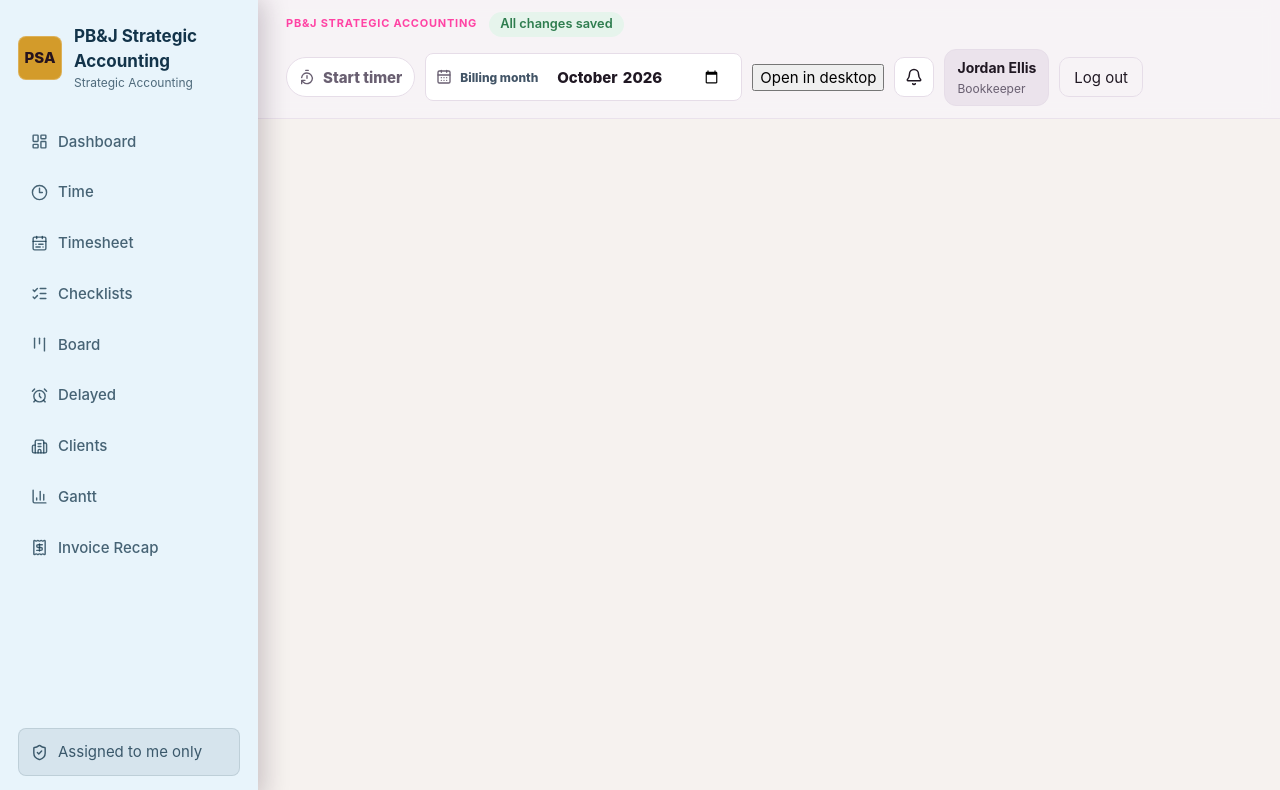
Test: as a team member › "This checklist only" files a plain request and says it was sent
Check: the navigation bar is shown, box [31, 132, 158, 557]
Click the link "Checklists" at (82, 293), box [31, 284, 133, 303]
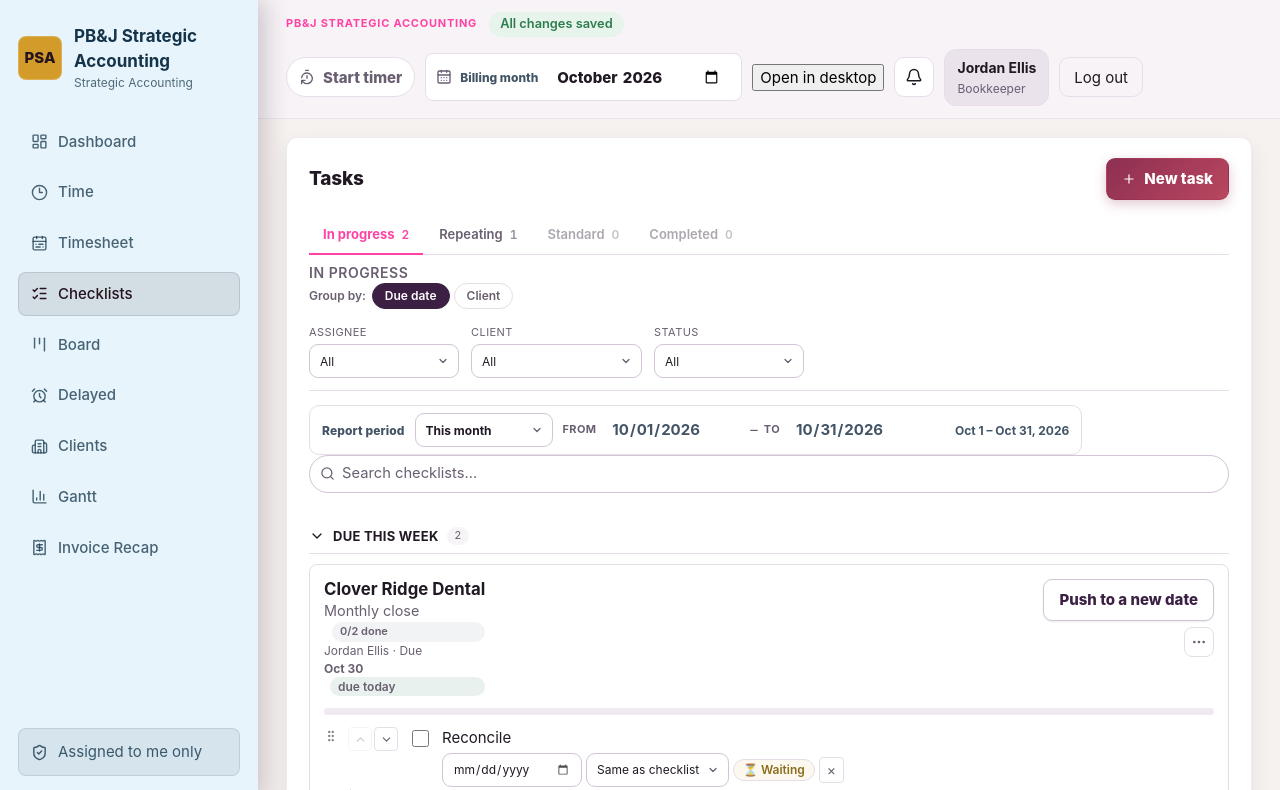
Check: the link "Checklists" is marked as current, box [18, 272, 240, 316]
Click the button named "Delete item" at (831, 770), box [819, 757, 844, 783]
(page scrolled)
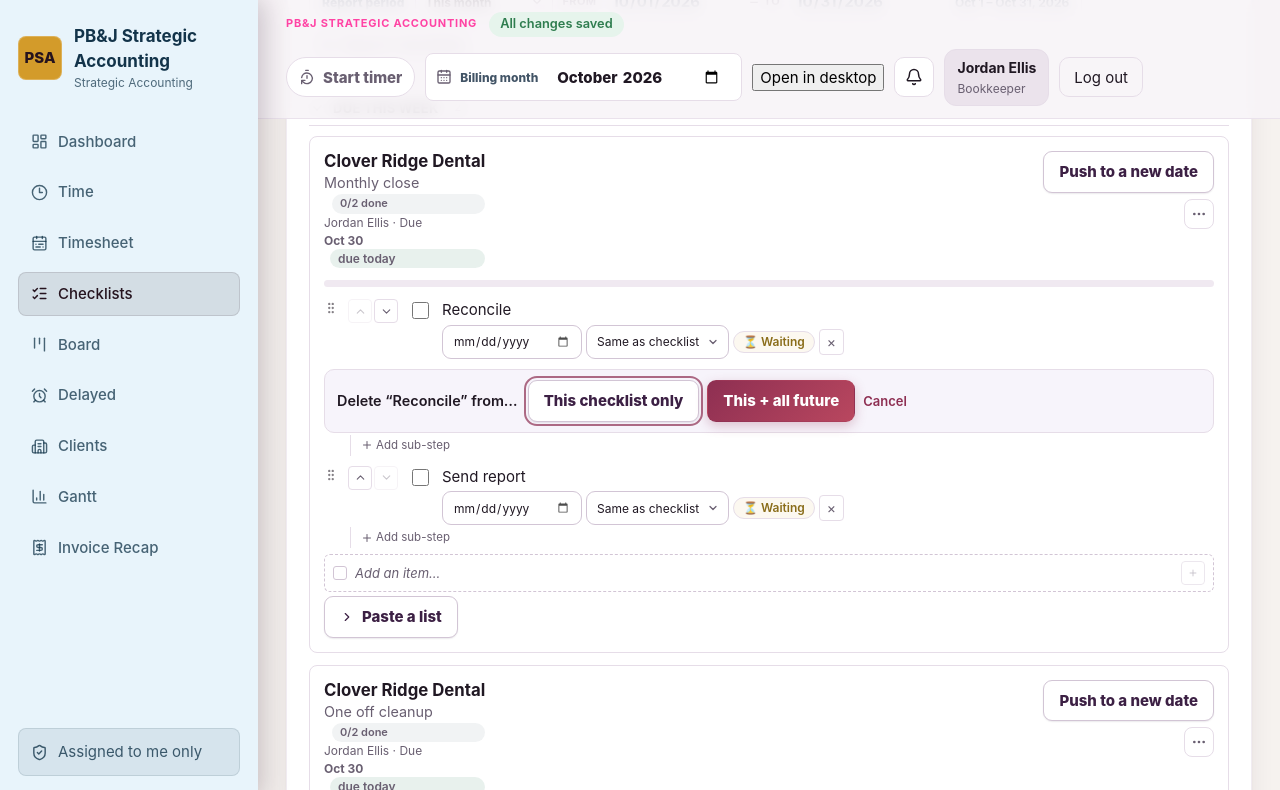
Click the button "This checklist only" at (613, 401), box [528, 380, 699, 422]
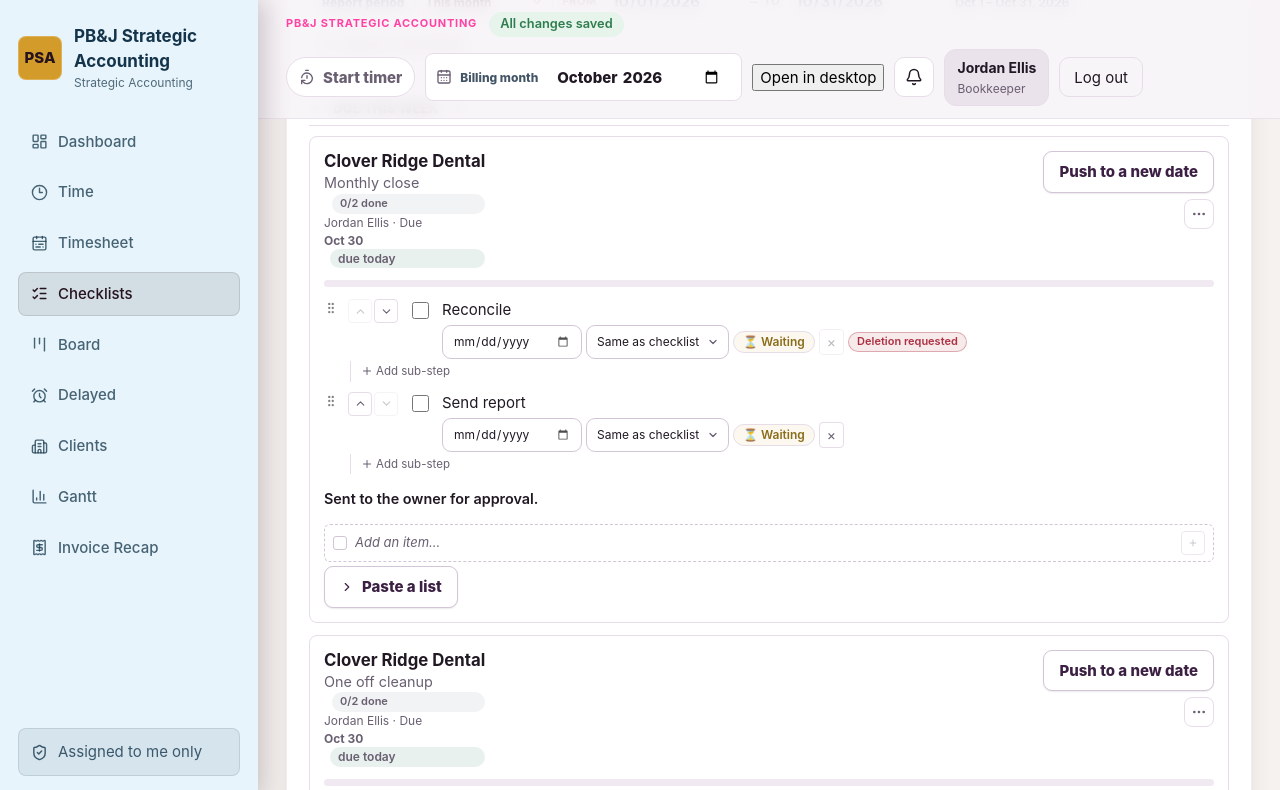
Check: the text "Sent to the owner for approval." is shown, box [324, 490, 538, 507]
